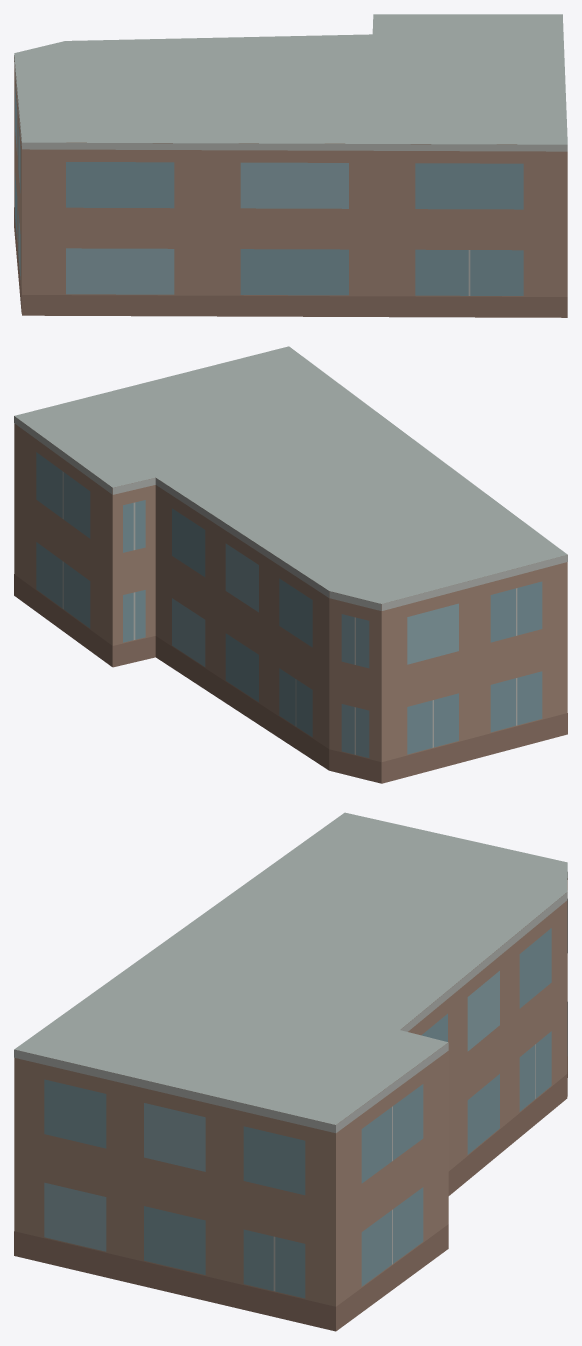
Rendered from survey-upis-32722553.glb.
3 views of the same model, one above another, from view 1: azimuth 30°, elevation 25°; view 2: azimuth 150°, elevation 25°; view 3: azimuth 270°, elevation 25° (orthographic). The views are drawn at different scales.
Parts seen in each view (by area): view 1: survey-upis-32722553.tmp; view 2: survey-upis-32722553.tmp; view 3: survey-upis-32722553.tmp.
Boxes of the visible parts, <box> form: survey-upis-32722553.tmp: <box>14,14,567,317</box>; survey-upis-32722553.tmp: <box>14,346,567,783</box>; survey-upis-32722553.tmp: <box>14,812,567,1331</box>.
Size of the model in its own units: 19.82 by 6.1 by 14.84.
